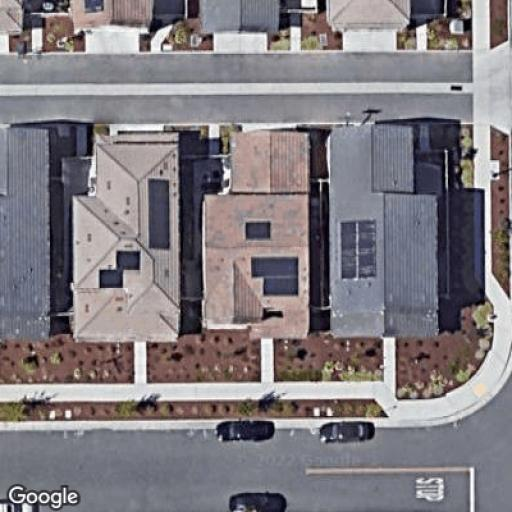solar-panel: (340, 220, 378, 280), (249, 255, 300, 298), (146, 174, 172, 252), (96, 248, 142, 289), (242, 218, 272, 242), (83, 0, 105, 16)
